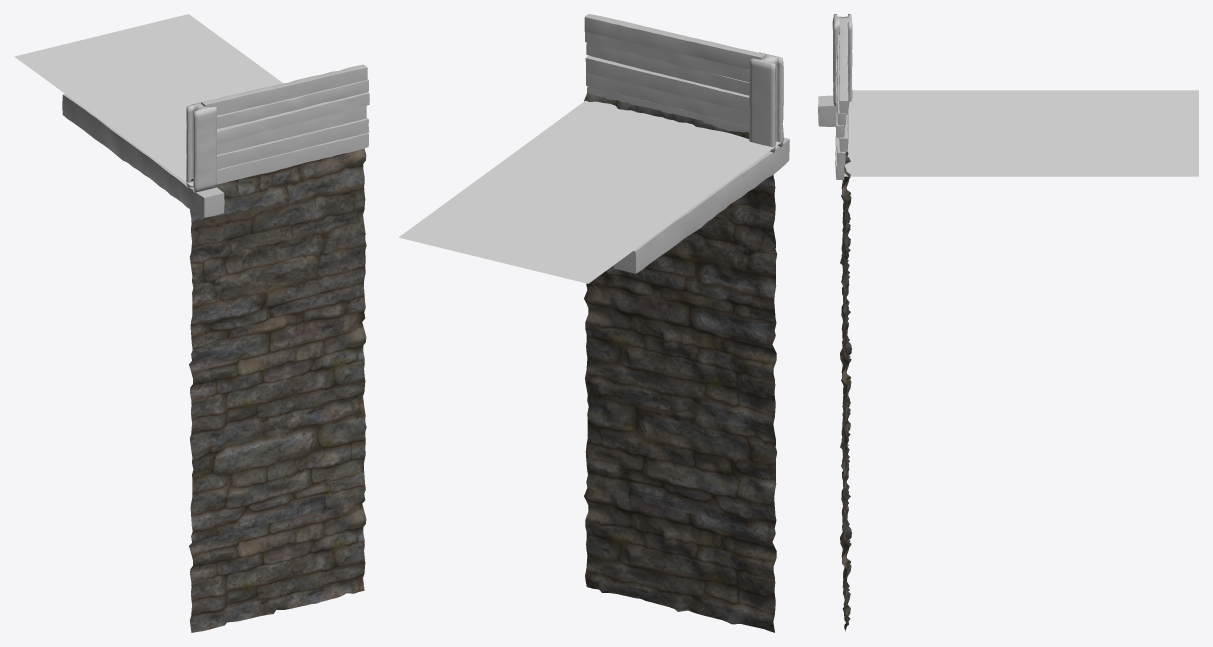
File: Steinmauer_v3_joint.fbx
3 views of the same model, side by side, from view 1: azimuth 30°, elevation 25°; view 2: azimuth 150°, elevation 25°; view 3: azimuth 270°, elevation 25° (orthographic). The views are drawn at different scales.
Visible parts, largest first — view 1: Steinmauer_v3_joint_LOD0; view 2: Steinmauer_v3_joint_LOD0; view 3: Steinmauer_v3_joint_LOD0.
Part boxes in pixels (x1,y1,x2,y2): Steinmauer_v3_joint_LOD0: (14,14,369,632); Steinmauer_v3_joint_LOD0: (399,14,789,632); Steinmauer_v3_joint_LOD0: (818,14,1198,631).
Size of what is drawn, in the model's own units: 133 by 377 by 243.
